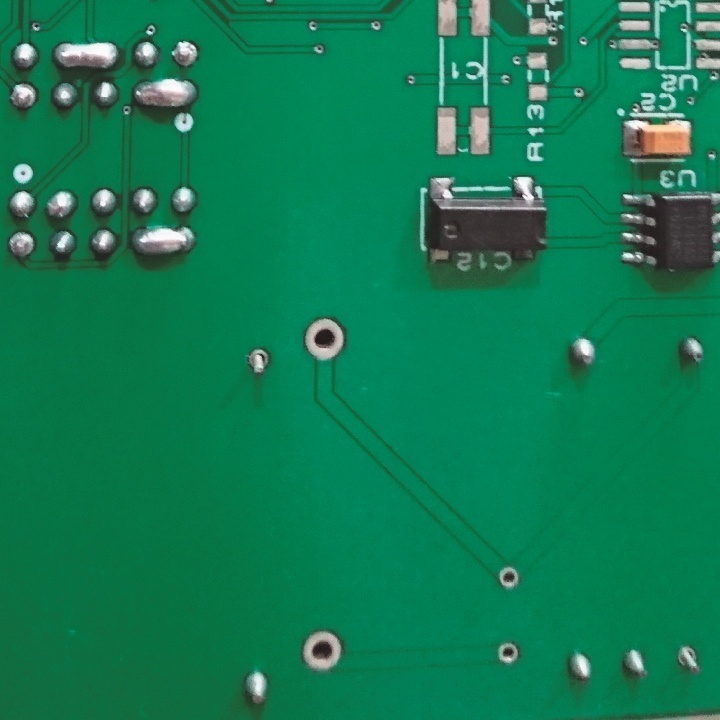F: (297, 626, 345, 674), (301, 316, 347, 360), (673, 642, 705, 678), (170, 37, 201, 70), (8, 81, 38, 111), (6, 232, 37, 261), (243, 345, 270, 377), (496, 563, 520, 592), (495, 641, 522, 666)
P: (127, 224, 195, 263), (50, 40, 119, 70), (133, 79, 196, 111)
